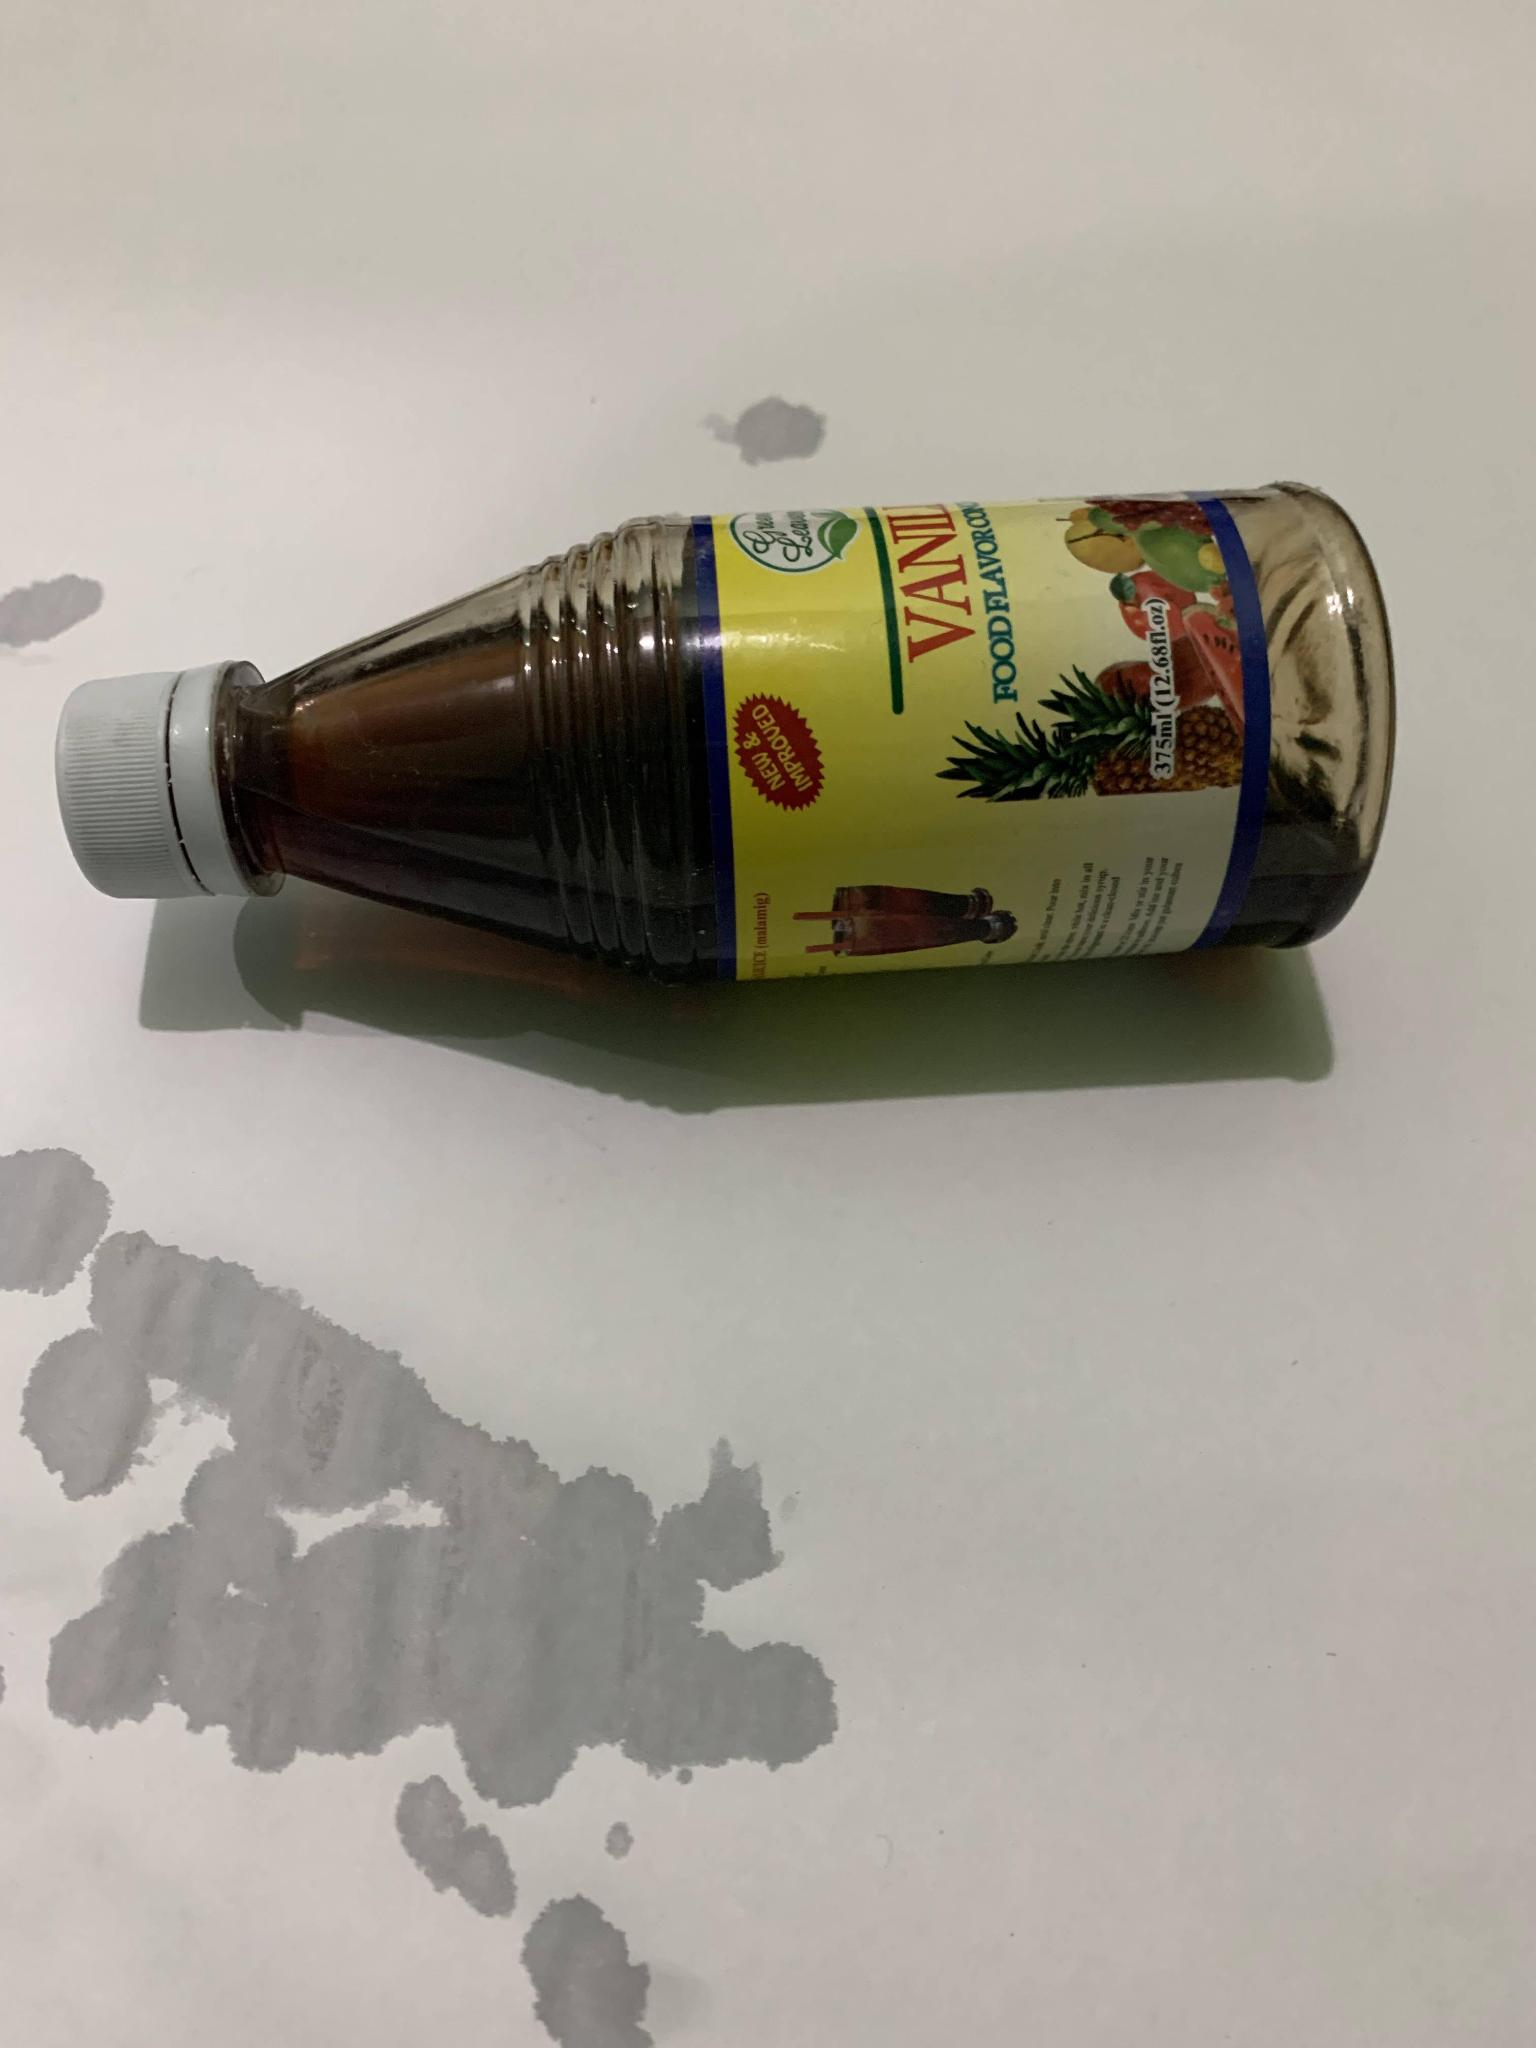bottle: (45, 472, 1410, 1006)
